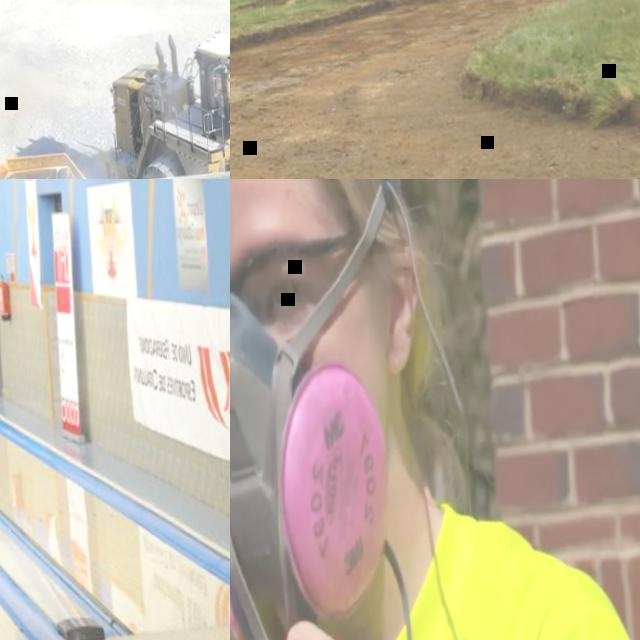Mask: (230, 283, 401, 640)
NO-Hardhat: (230, 179, 394, 223)
NO-Safety Vest: (230, 492, 582, 640)
Person: (230, 179, 640, 640), (215, 70, 230, 102)
Safety Vest: (215, 75, 230, 100)
machinery: (102, 7, 230, 179), (0, 128, 230, 179)
